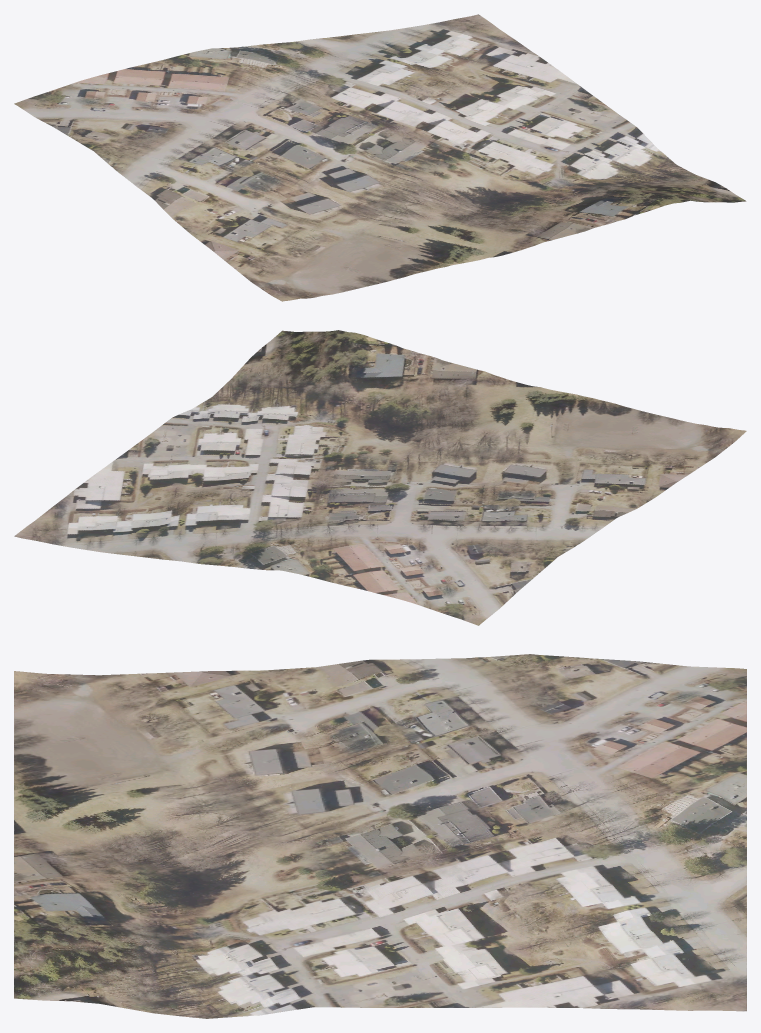
Rendered from CM_Terrain_24491892_6817541.fbx.
3 views of the same model, one above another, from view 1: azimuth 30°, elevation 25°; view 2: azimuth 150°, elevation 25°; view 3: azimuth 270°, elevation 25° (orthographic). The views are drawn at different scales.
Visible parts, largest first — view 1: CM_Terrain_24491892_6817541_LOD0; view 2: CM_Terrain_24491892_6817541_LOD0; view 3: CM_Terrain_24491892_6817541_LOD0.
Boxes of the visible parts, box(x1,y1,x2,y2) form: CM_Terrain_24491892_6817541_LOD0: box(14, 14, 746, 301); CM_Terrain_24491892_6817541_LOD0: box(14, 330, 746, 625); CM_Terrain_24491892_6817541_LOD0: box(14, 654, 746, 1018).
Size of what is drawn, in the model's own units: 205 by 16.99 by 205.
